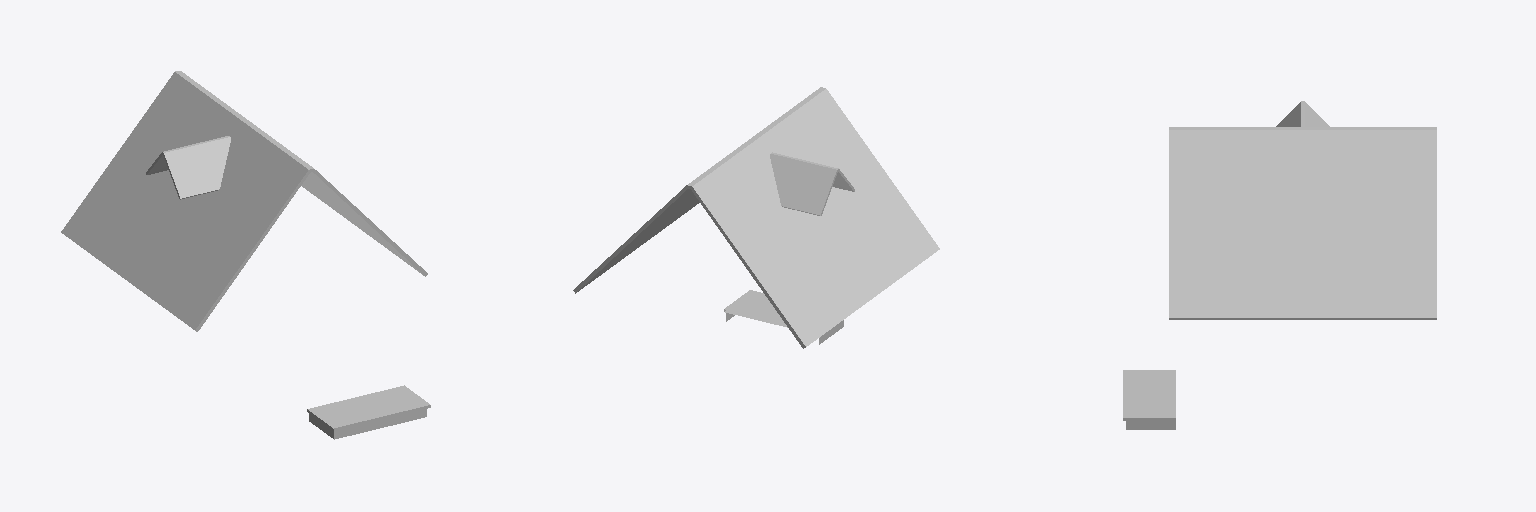
The model's file is Roof.obj.
The picture shows the model from 3 angles: view 1: azimuth 30°, elevation 25°; view 2: azimuth 150°, elevation 25°; view 3: azimuth 270°, elevation 25°; orthographic projection.
Parts seen in each view (by area): view 1: House.007; view 2: House.007; view 3: House.007.
Boxes of the visible parts, box(x1,y1,x2,y2) form: House.007: box(61, 71, 430, 439); House.007: box(573, 87, 939, 348); House.007: box(1123, 101, 1436, 429).
Size of the model in its own units: 2.32 by 2.43 by 2.71.